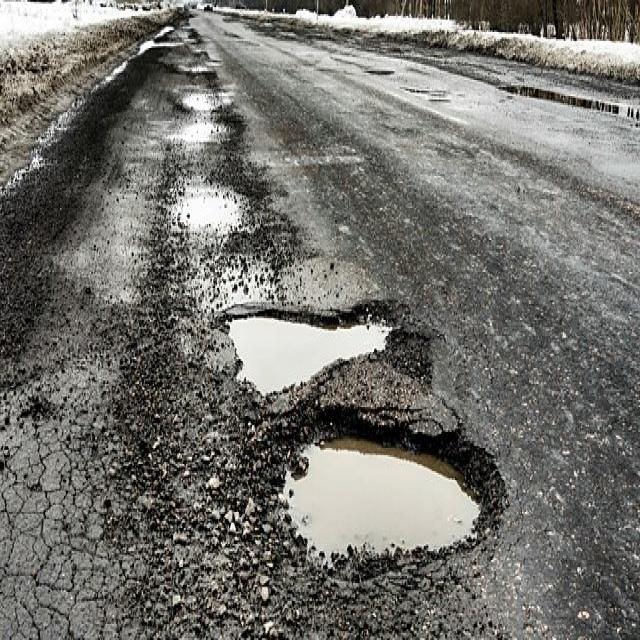Pothole: (284, 408, 478, 558), (220, 292, 384, 374), (506, 80, 640, 130), (169, 166, 250, 228), (407, 76, 457, 147), (423, 47, 503, 85), (185, 112, 242, 140), (226, 22, 262, 62), (184, 77, 232, 106), (324, 37, 361, 69), (180, 55, 205, 80), (374, 64, 391, 84)
Surface Erosion: (22, 24, 228, 640)
